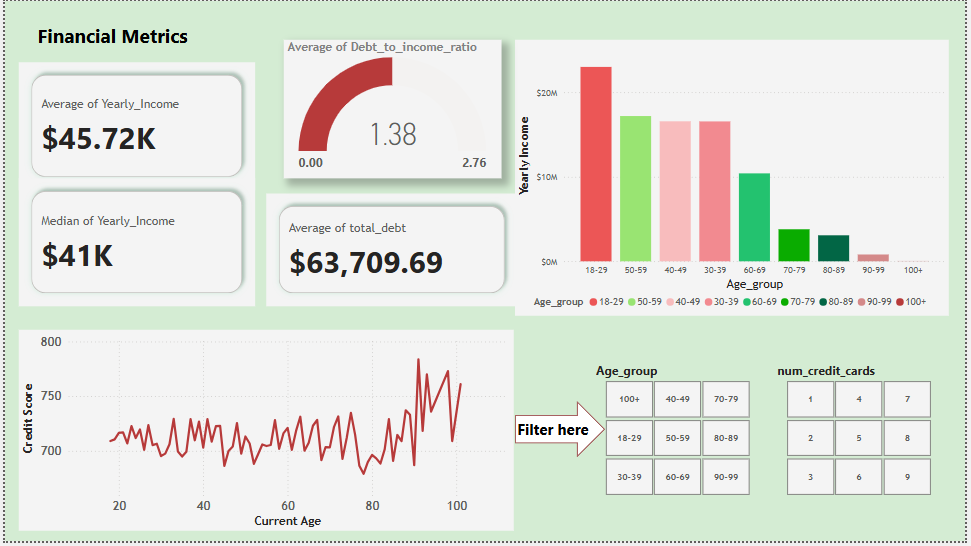

This screenshot's page, from the dashboard's own definition file:
{"tool":"powerbi","page":{"name":"Financial Metrics","canvas":[1280,720],"ordinal":1},"visuals":[{"type":"cardVisual","fields":{"Data":["Avg(cleaned_users_data.Yearly_Income)"]},"box":[18.3,81.7,315,170],"z":0},{"type":"columnChart","fields":{"Y":["Sum(bin_data.yearly_income)"],"Category":["bin_data.Age_group"],"Series":["bin_data.Age_group"]},"box":[680,51.7,578.3,368.3],"z":1000},{"type":"lineChart","fields":{"Y":["Avg(bin_data.credit_score)"],"Category":["bin_data.current_age"]},"box":[18.3,438.3,660,268.3],"z":2000},{"type":"cardVisual","fields":{"Data":["Avg(bin_data.total_debt)"]},"box":[348.3,256.7,335,150],"z":3000},{"type":"gauge","fields":{"Y":["Avg(bin_data.Debt_to_income_ratio)"]},"box":[371.7,51.7,290,185],"z":4000},{"type":"slicer","fields":{"Values":["bin_data.num_credit_cards"]},"box":[1016.7,476.7,241.7,188.3],"z":5000},{"type":"shape","box":[0,9.6,286.9,71.7],"z":6000},{"type":"cardVisual","fields":{"Data":["Median(cleaned_users_data.Yearly_Income)"]},"box":[18.3,236.7,315,170],"z":7000},{"type":"shape","box":[680,533.3,120,75],"z":8000},{"type":"slicer","fields":{"Values":["bin_data.Age_group"]},"box":[789,479,242.5,188.2],"z":9000}]}

Visuals, with their boxes in screenshot pixels (x1, y1, x2, y2), scaled from the page's 1280x720 canvas onto the 971x546 screenshot:
cardVisual - Avg(cleaned_users_data.Yearly_Income): [14,62,253,191]
columnChart - Sum(bin_data.yearly_income) x bin_data.Age_group: [516,39,955,318]
lineChart - Avg(bin_data.credit_score) x bin_data.current_age: [14,332,515,536]
cardVisual - Avg(bin_data.total_debt): [264,195,518,308]
gauge - Avg(bin_data.Debt_to_income_ratio): [282,39,502,179]
slicer - bin_data.num_credit_cards: [771,361,955,504]
shape: [0,7,218,62]
cardVisual - Median(cleaned_users_data.Yearly_Income): [14,179,253,308]
shape: [516,404,607,461]
slicer - bin_data.Age_group: [599,363,782,506]
